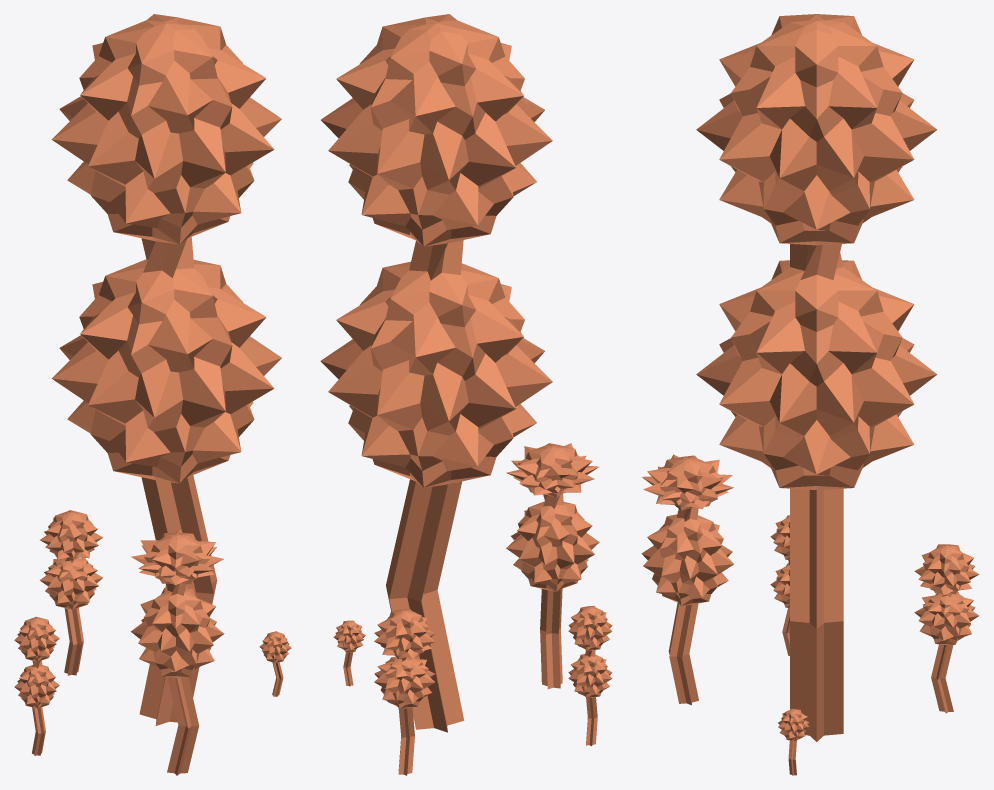
Rendered from Plant_04.fbx.
3 renders of one model, left to right at view 1: azimuth 30°, elevation 25°; view 2: azimuth 150°, elevation 25°; view 3: azimuth 270°, elevation 25°, orthographic. The views are drawn at different scales.
Visible parts, largest first — view 1: Plant_04.003; view 2: Plant_04.003; view 3: Plant_04.003.
Boxes of the visible parts, x1=… form: Plant_04.003: x1=14, y1=14, x2=291, y2=775; Plant_04.003: x1=320, y1=14, x2=612, y2=775; Plant_04.003: x1=641, y1=14, x2=979, y2=775.
Bounding box in the file's own units: 250 × 611 × 262.
